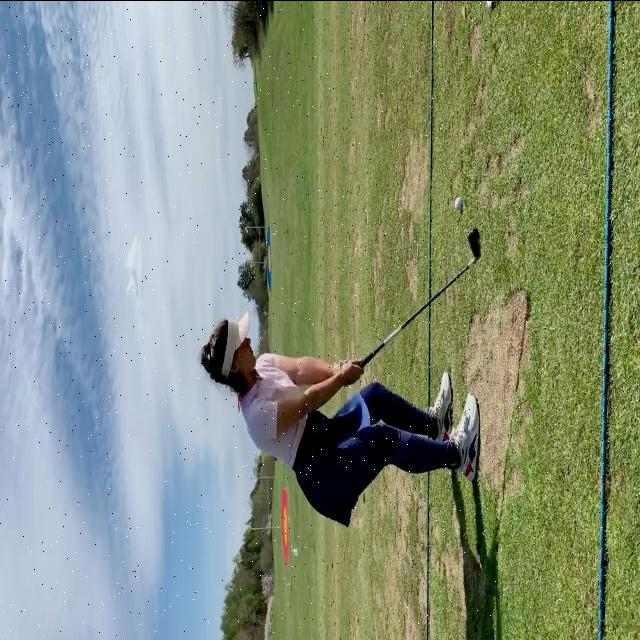ClubHandle: (356, 221, 483, 372)
ClubHead: (465, 225, 481, 257)
GolfBall: (453, 194, 463, 208)
